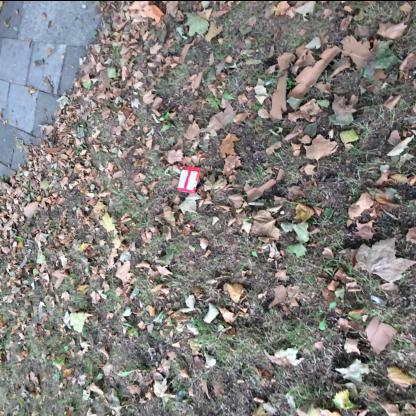plastik: (177, 167, 203, 193)
